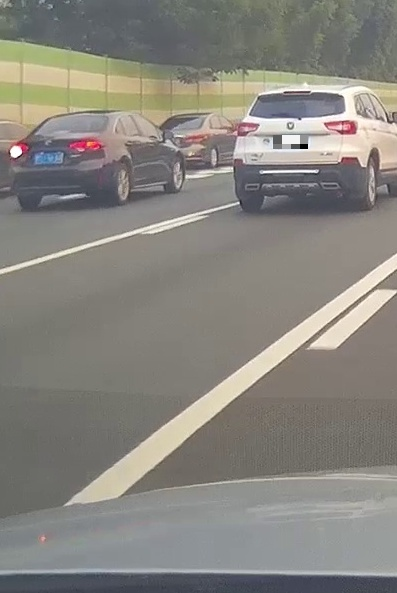L_light: (235, 121, 260, 137), (10, 143, 28, 158)
R_light: (324, 119, 358, 135), (70, 139, 105, 152)
T_light: (284, 90, 311, 95), (54, 129, 72, 133)
day-left: (8, 109, 116, 208)
day-no: (232, 85, 363, 212)
plate_1: (273, 135, 308, 149)
